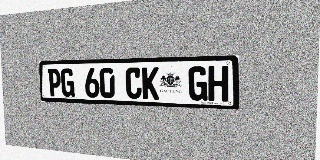0: (99, 68, 115, 98)
6: (85, 68, 100, 98)
C: (125, 67, 142, 99)
G: (188, 66, 208, 101), (61, 68, 75, 97)
H: (208, 66, 228, 102)
K: (142, 67, 159, 100)
P: (48, 68, 61, 97)
